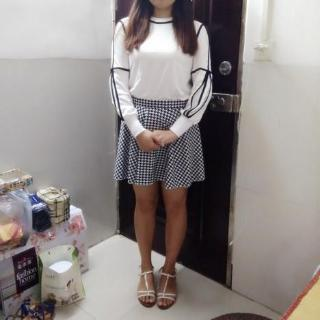long sleeve top: (109, 13, 214, 139)
skirt: (113, 95, 206, 190)
